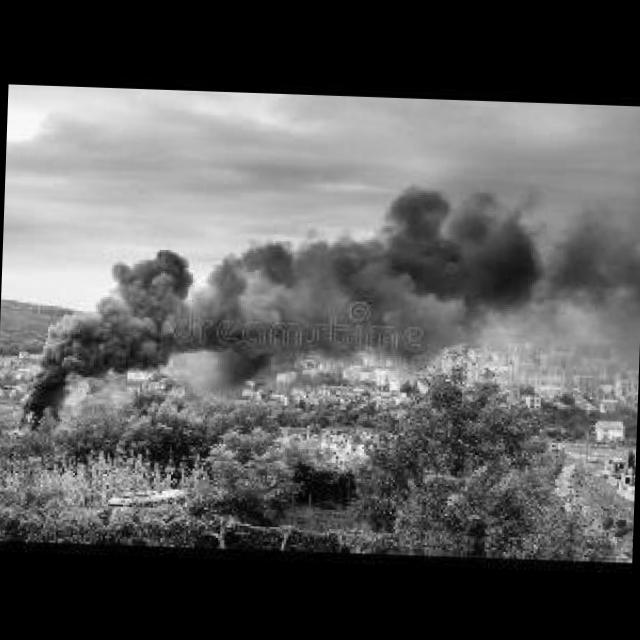fire: (8, 398, 48, 438)
smoke: (88, 159, 640, 389), (26, 318, 95, 410)
